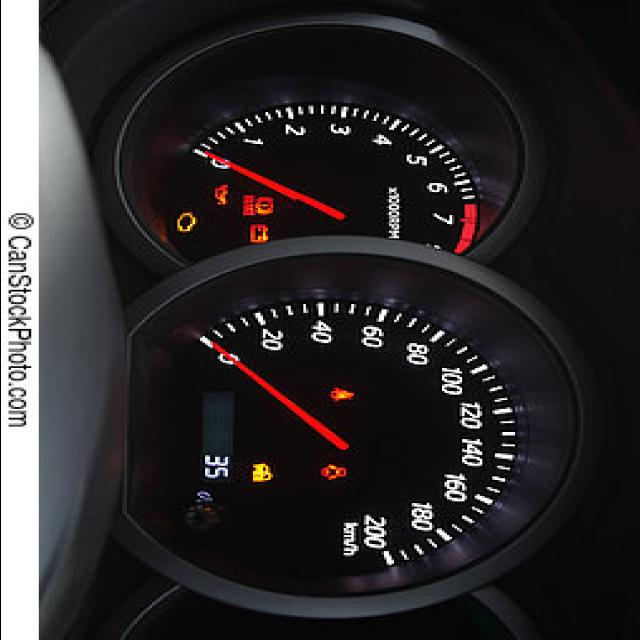Braking System Issue: (239, 194, 275, 217)
Charging System Issue: (245, 220, 272, 246)
Check Engine: (174, 210, 199, 234)
Low Engine Oil Warning Light: (212, 182, 232, 206)
